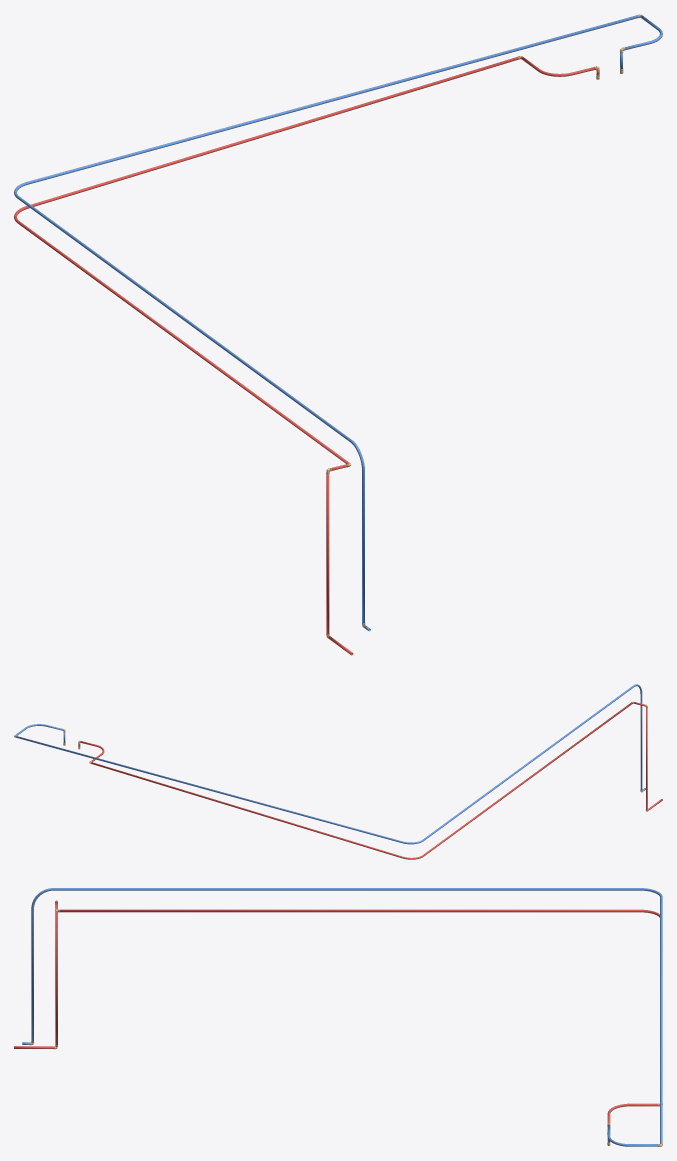
File: slab_pipes_supply__water_heater-garage_gas_tank_and_plumbing-pex+attic_repipe.glb
3 views of the same model, one above another, from view 1: azimuth 30°, elevation 25°; view 2: azimuth 150°, elevation 25°; view 3: azimuth 270°, elevation 25° (orthographic). The views are drawn at different scales.
Parts seen in each view (by area): view 1: pipe_supply_cold_wh_garage_tank__pex, pipe_supply_hot_wh_garage_tank__pex; view 2: pipe_supply_cold_wh_garage_tank__pex, pipe_supply_hot_wh_garage_tank__pex; view 3: pipe_supply_cold_wh_garage_tank__pex, pipe_supply_hot_wh_garage_tank__pex.
Part boxes in pixels (<box>): pipe_supply_cold_wh_garage_tank__pex: <box>14,15,662,631</box>; pipe_supply_hot_wh_garage_tank__pex: <box>14,56,599,655</box>; pipe_supply_cold_wh_garage_tank__pex: <box>15,684,645,844</box>; pipe_supply_hot_wh_garage_tank__pex: <box>78,702,662,859</box>; pipe_supply_cold_wh_garage_tank__pex: <box>22,888,662,1146</box>; pipe_supply_hot_wh_garage_tank__pex: <box>14,901,659,1122</box>.
Size of the model in its own units: 5.61 by 1.73 by 5.43.
